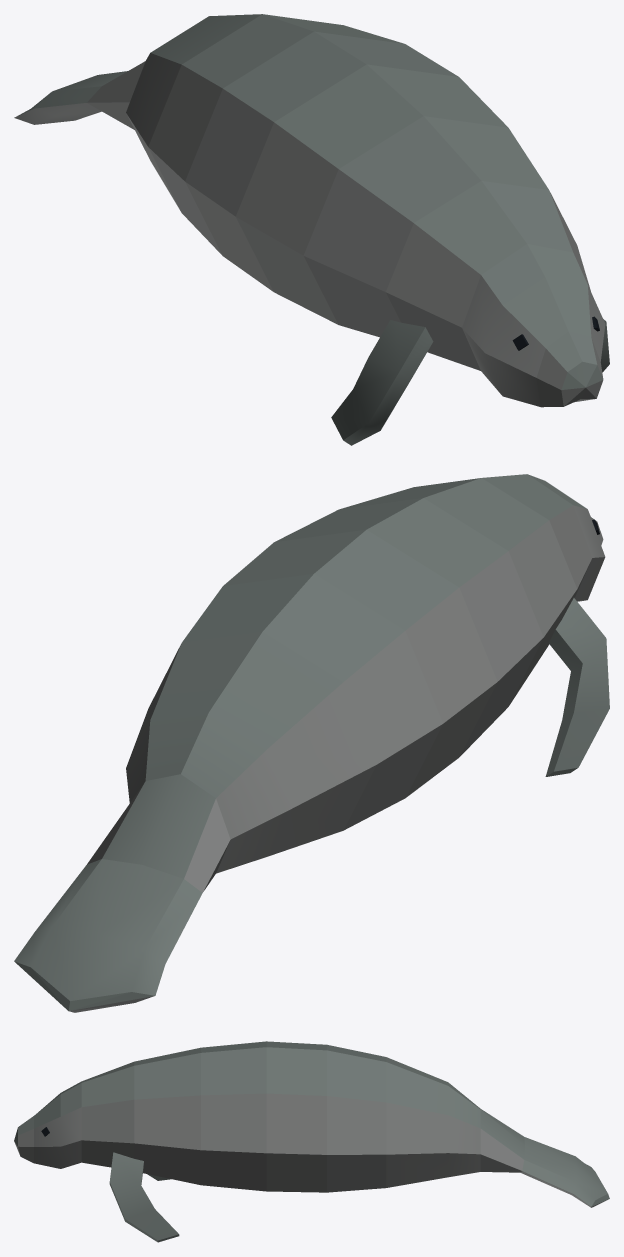
File: e334ccb2-7921-4aa8-98b1-ac919c6f5b6e.glb
3 renders of one model, top to bottom at view 1: azimuth 30°, elevation 25°; view 2: azimuth 150°, elevation 25°; view 3: azimuth 270°, elevation 25°, orthographic. The views are drawn at different scales.
Visible parts, largest first — view 1: Geo_Manatee; view 2: Geo_Manatee; view 3: Geo_Manatee.
Boxes of the visible parts, x1,y1,x2,y2 form: Geo_Manatee: (14,14,609,445); Geo_Manatee: (14,474,609,1012); Geo_Manatee: (14,1041,609,1242).
Bounding box in the file's own units: 56.3 × 58.68 × 193.
Materials: 1 (1 with a texture image).
